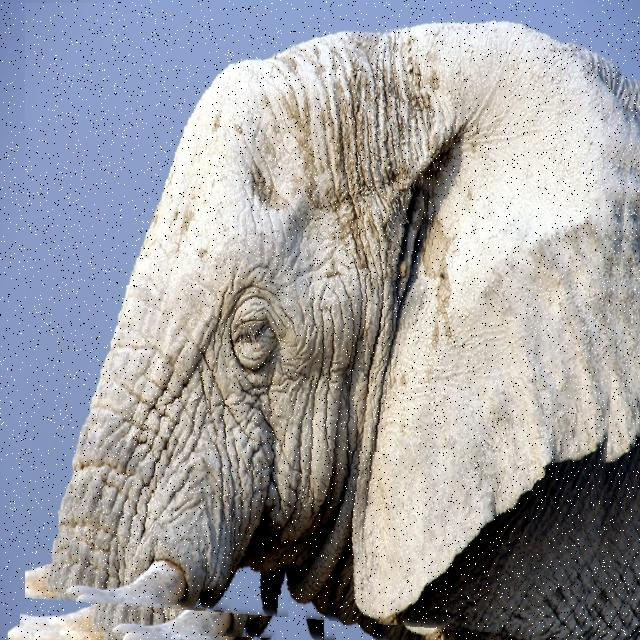elephant: (25, 3, 640, 640)
